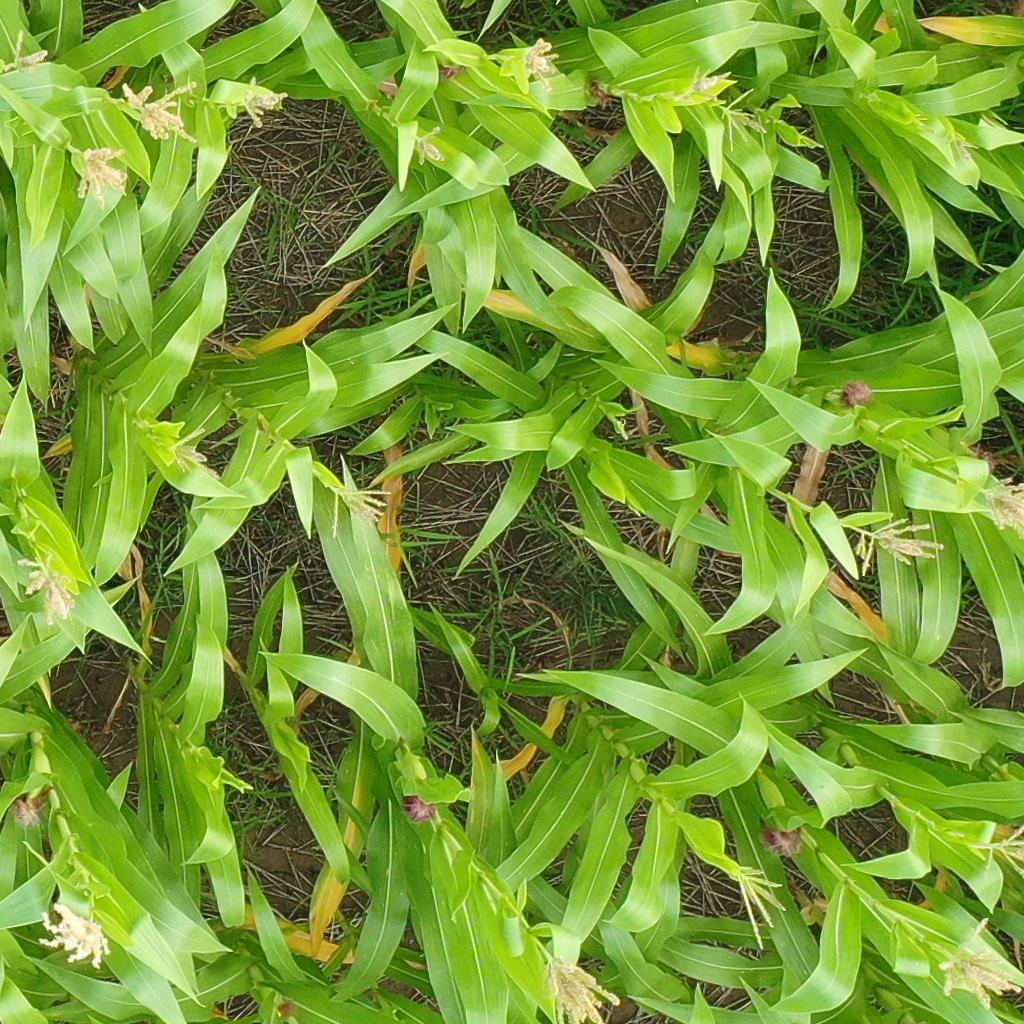Tassel: (931, 916, 1022, 1009), (839, 517, 943, 577), (541, 955, 621, 1024), (35, 902, 114, 970), (121, 80, 201, 145), (733, 864, 791, 953), (15, 550, 78, 627), (74, 147, 129, 209), (331, 483, 391, 539), (968, 824, 1024, 881), (724, 86, 767, 153), (166, 428, 220, 481), (241, 76, 288, 131), (513, 38, 561, 91), (982, 477, 1024, 535), (1, 30, 49, 75), (688, 65, 731, 104), (416, 126, 445, 165), (951, 135, 981, 171), (794, 128, 825, 150), (670, 89, 694, 106), (910, 112, 931, 129), (616, 418, 632, 439)
